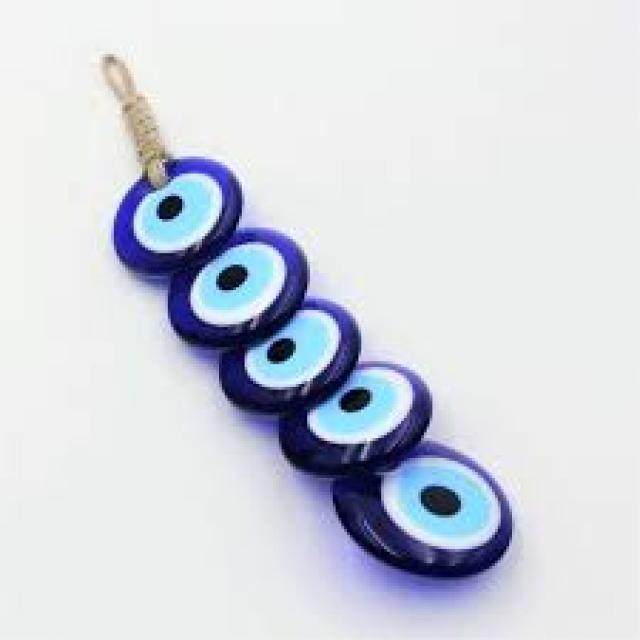Nazar-Boncugu: (119, 137, 515, 580), (114, 128, 242, 284)
